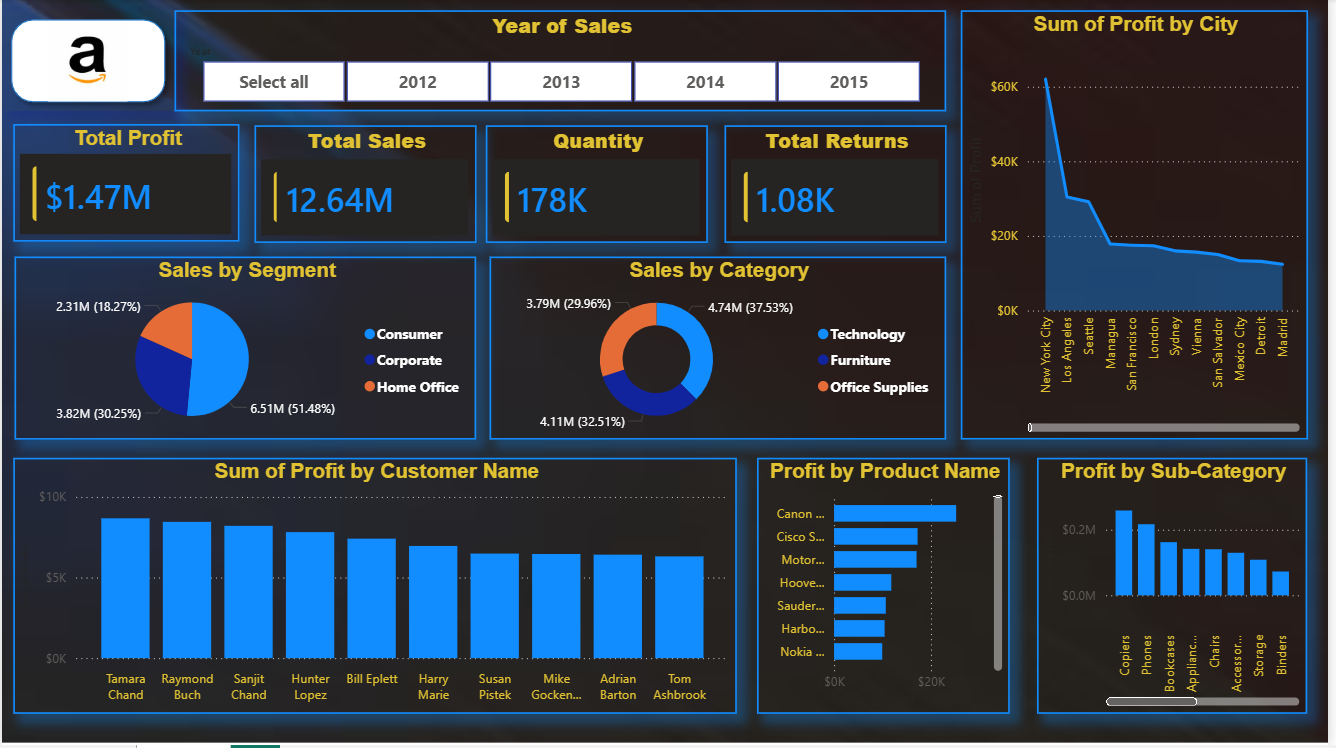

The dashboard page shown, as its layout file describes it:
{"tool":"powerbi","page":{"name":"Page 1","canvas":[1280,720],"ordinal":0},"visuals":[{"type":"shape","box":[0,10.9,166.5,97.7],"z":0},{"type":"image","box":[24.1,22.9,117,76],"z":1000},{"type":"slicer","title":"Year of Sales","fields":{"Values":["Orders.Order Date.Variation.Date Hierarchy.Year"]},"box":[166,11,745.1,97.4],"z":2000},{"type":"cardVisual","title":"Total Profit","fields":{"Data":["Orders.Profit"]},"box":[11,120.8,218.2,113.9],"z":3000},{"type":"cardVisual","title":"Total Sales","fields":{"Data":["Orders.Sales"]},"box":[244.3,122.1,214.1,113.9],"z":4000},{"type":"cardVisual","title":"Quantity","fields":{"Data":["Orders.Quantity"]},"box":[466.6,122.1,214.1,113.9],"z":5000},{"type":"cardVisual","title":"Total Returns","fields":{"Data":["Returns.Column1"]},"box":[697.1,122.1,214.1,113.9],"z":6000},{"type":"pieChart","title":"Sales by Segment","fields":{"Y":["Orders.Sales"],"Category":["Orders.Segment"]},"box":[12.3,248.4,446,177],"z":7000},{"type":"donutChart","title":"Sales by Category","fields":{"Y":["Orders.Sales"],"Category":["Orders.Category"]},"box":[470.7,248.4,440.5,177],"z":8000},{"type":"columnChart","fields":{"Category":["Orders.Customer Name"],"Y":["Orders.Profit"]},"box":[11,443.2,698.5,247],"z":9000},{"type":"barChart","title":"Profit by Product Name","fields":{"Y":["Orders.Profit"],"Category":["Orders.Product Name"]},"box":[728.6,443.2,244.3,247],"z":10000},{"type":"clusteredColumnChart","title":"Profit by Sub-Category","fields":{"Category":["Orders.Sub-Category"],"Y":["Orders.Profit"]},"box":[999,443.2,260.7,247],"z":11000},{"type":"areaChart","fields":{"Category":["Orders.City"],"Y":["Orders.Profit"]},"box":[924.9,11,334.8,414.4],"z":12000}]}

Visuals, with their boxes in screenshot pixels (x1, y1, x2, y2), scaled from the page's 1280x720 canvas onto the 1336x748 screenshot:
shape: Rect(0, 11, 174, 113)
image: Rect(25, 24, 147, 103)
"Year of Sales" slicer: Rect(173, 11, 951, 113)
"Total Profit" cardVisual: Rect(11, 125, 239, 244)
"Total Sales" cardVisual: Rect(255, 127, 478, 245)
"Quantity" cardVisual: Rect(487, 127, 710, 245)
"Total Returns" cardVisual: Rect(728, 127, 951, 245)
"Sales by Segment" pieChart: Rect(13, 258, 478, 442)
"Sales by Category" donutChart: Rect(491, 258, 951, 442)
columnChart - Orders.Customer Name x Orders.Profit: Rect(11, 460, 741, 717)
"Profit by Product Name" barChart: Rect(760, 460, 1015, 717)
"Profit by Sub-Category" clusteredColumnChart: Rect(1043, 460, 1315, 717)
areaChart - Orders.City x Orders.Profit: Rect(965, 11, 1315, 442)
